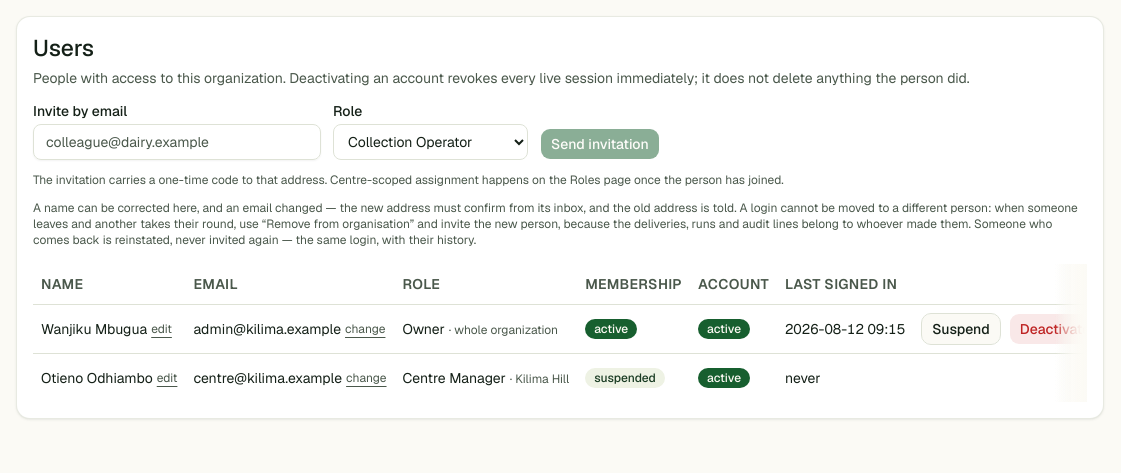
users page › suspends a membership through the platform, and says when it takes effect
The image size is (1121, 473).
Check: the text "Wanjiku Mbugua" is shown, box [41,320,147,338]
Click the button "Suspend". click: (961, 329)
box: [921,313,1001,345]
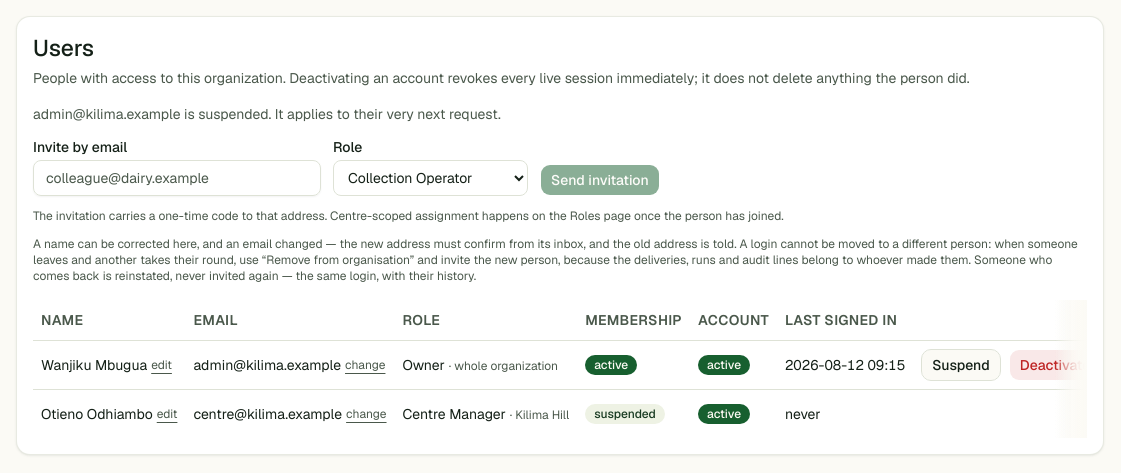
Check: the text "admin@kilima.example is suspended. It applies to their very next request." is shown, box [33,105,501,123]
